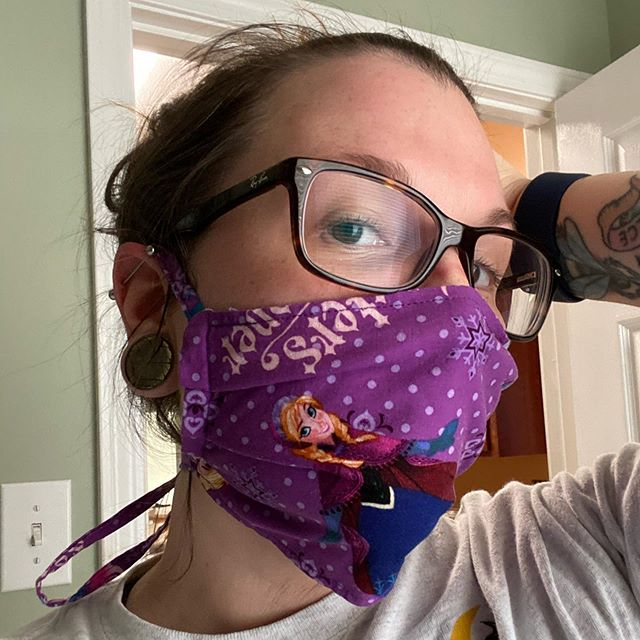homemade: (154, 279, 514, 590)
